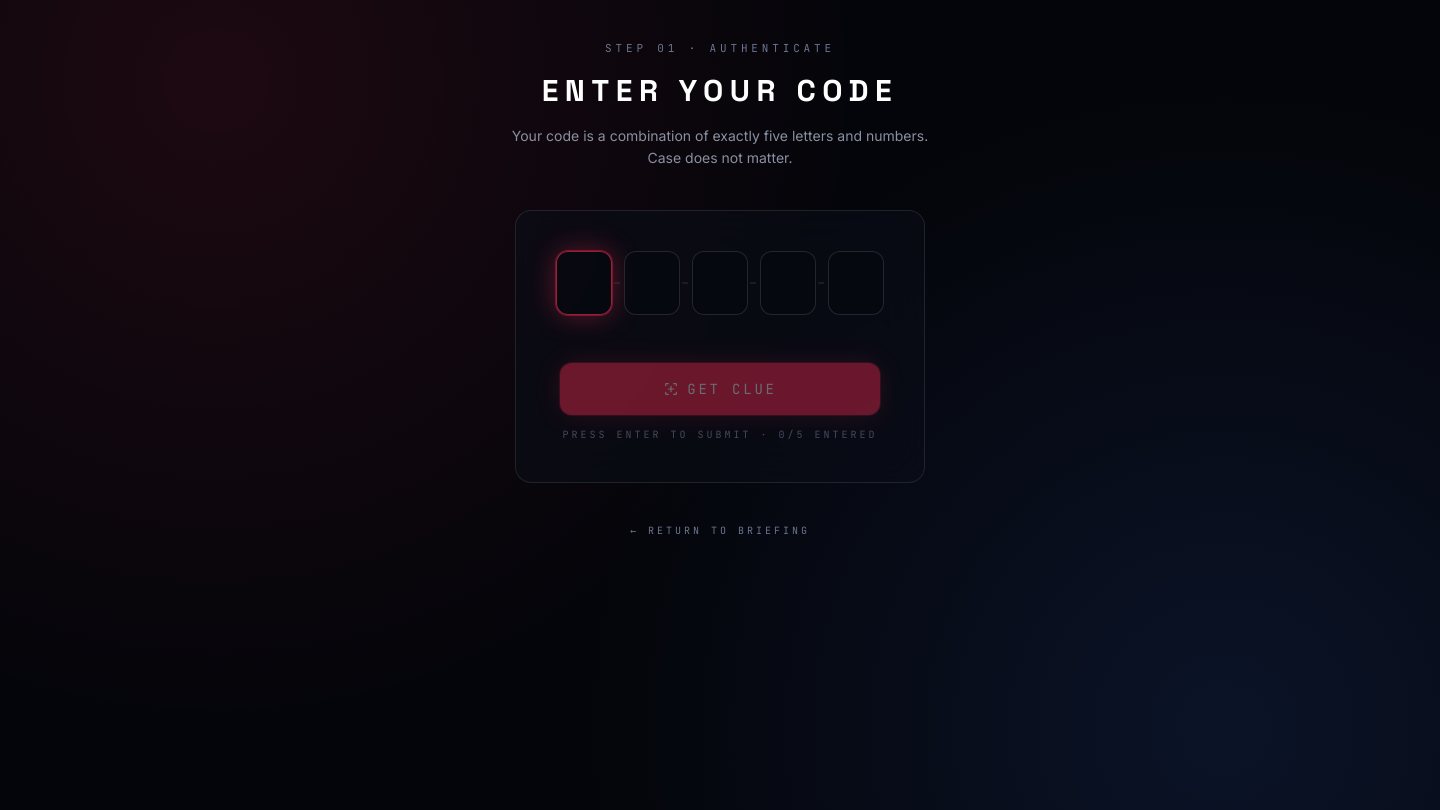
Test case: Enter code page › shows the API error for an invalid code and clears the slots
Type "z" into the field named "Code character 1" at (584, 283), box [556,251,612,315]
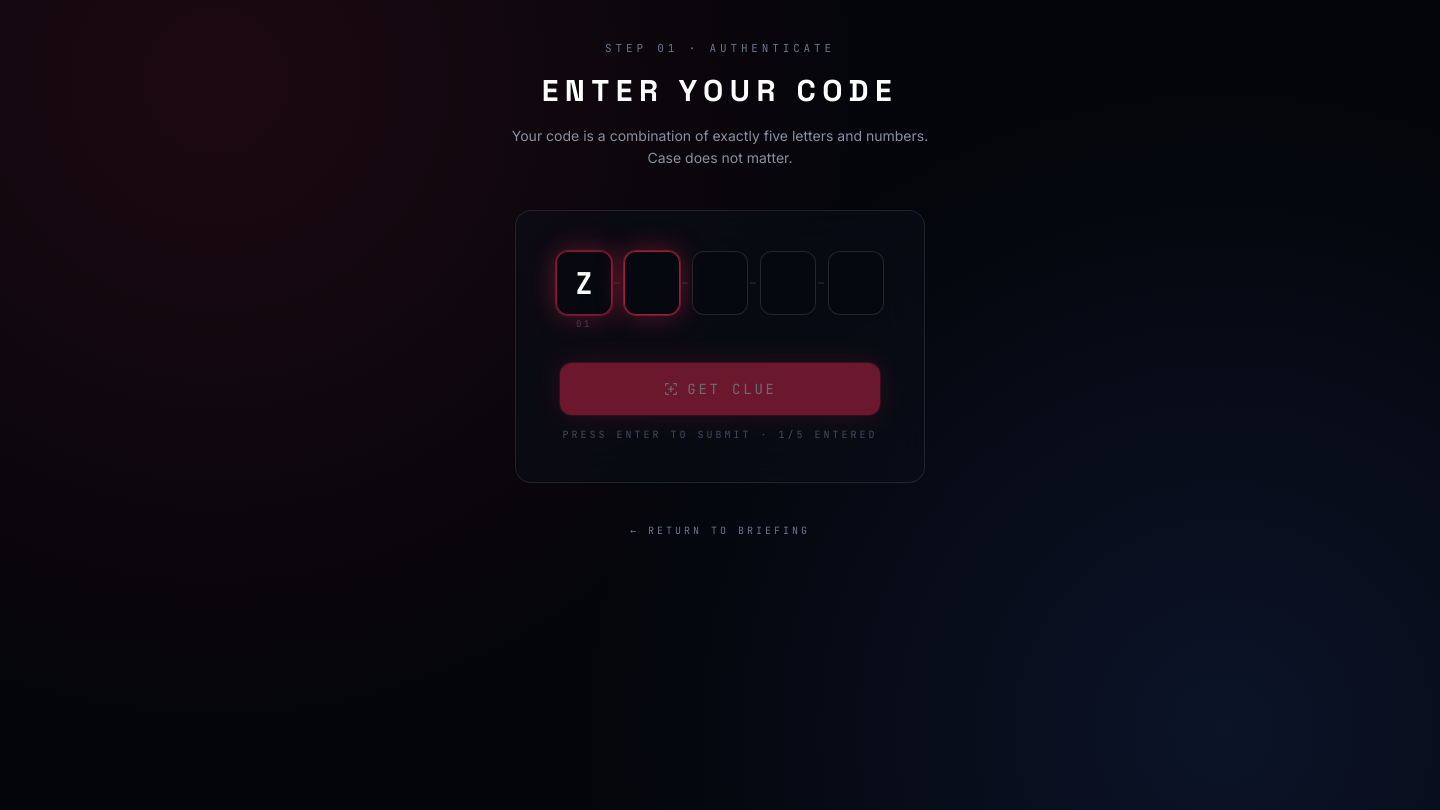
Type "z" into the field named "Code character 2" at (652, 283), box [624,251,680,315]
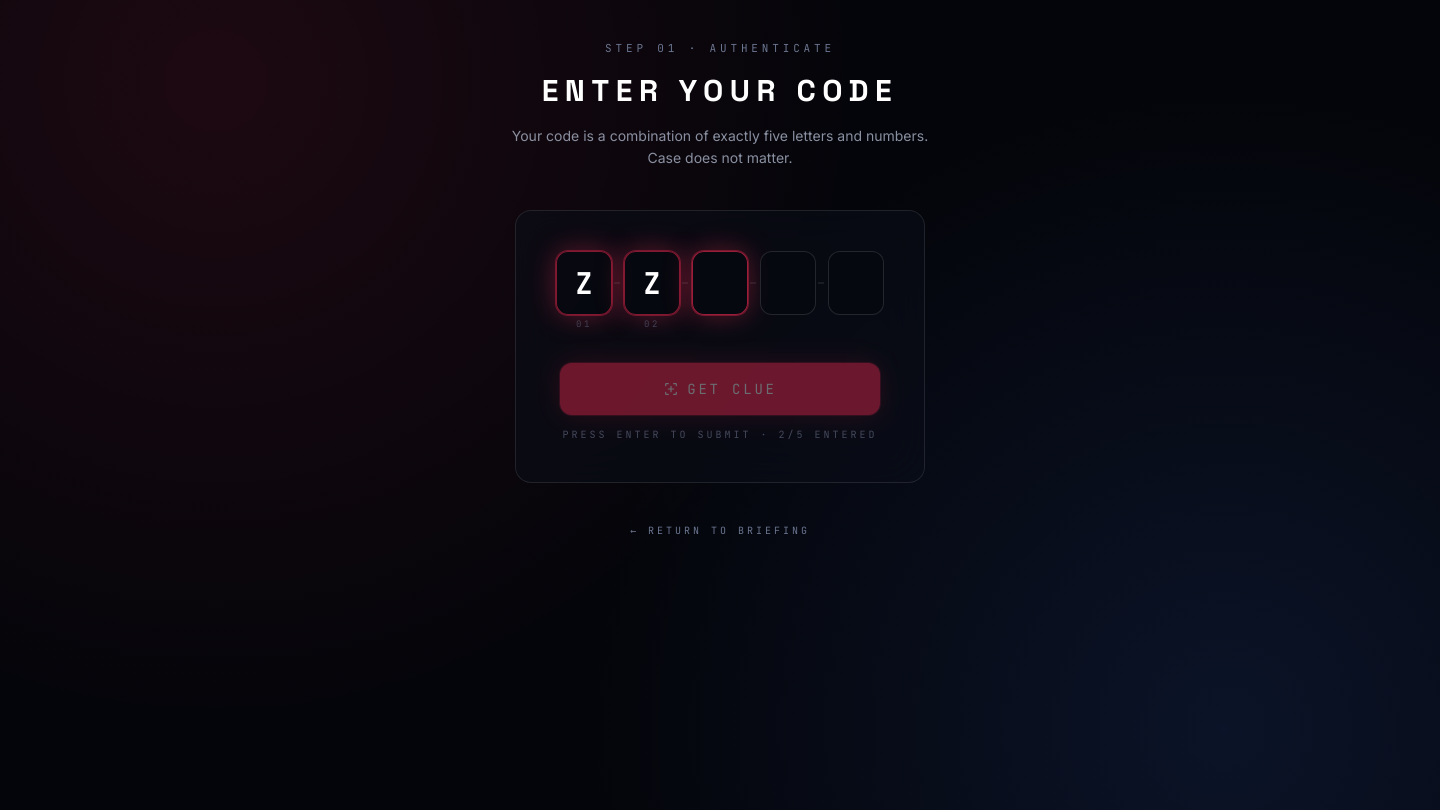
Type "z" into the field named "Code character 3" at (720, 283), box [692,251,748,315]
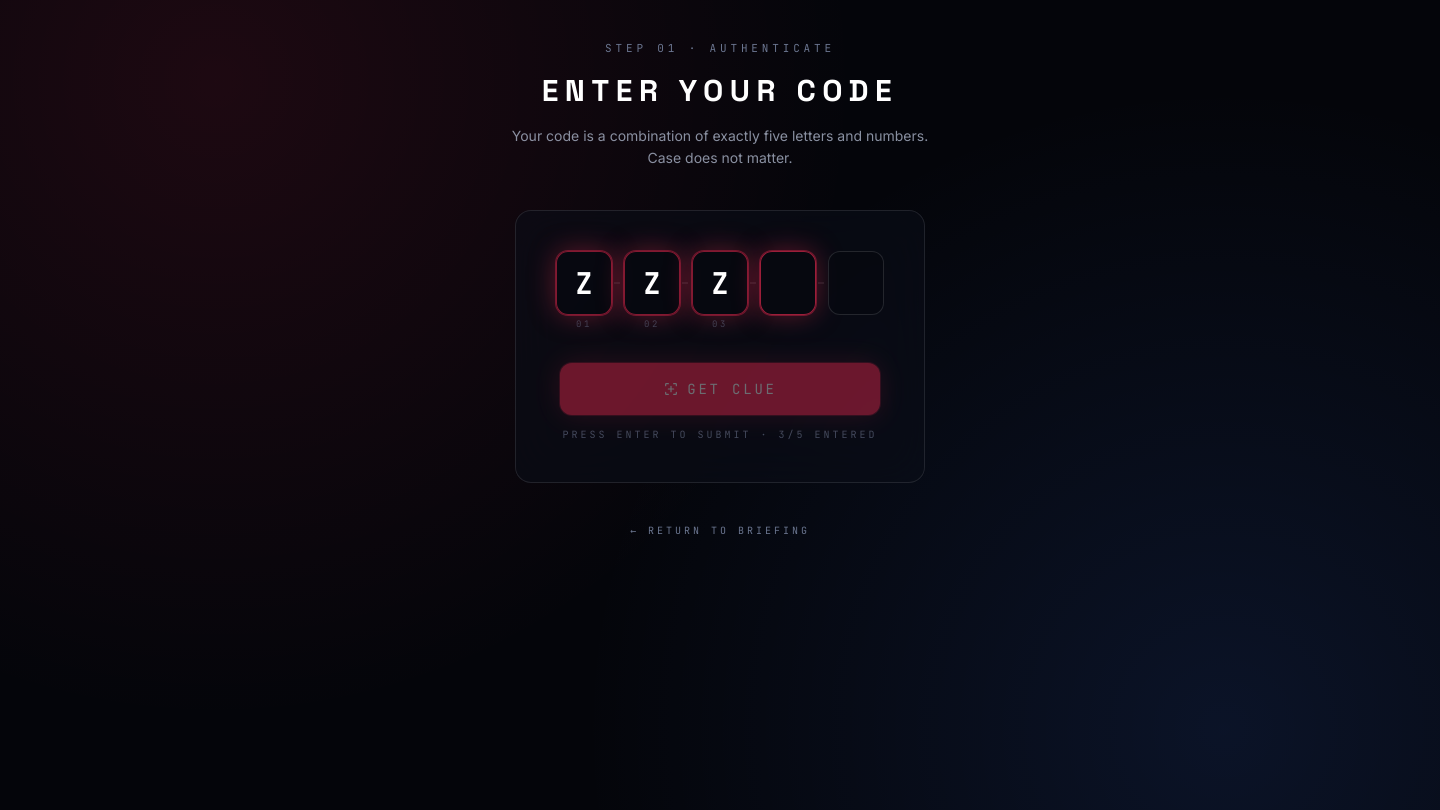
Type "z" into the field named "Code character 4" at (788, 283), box [760,251,816,315]
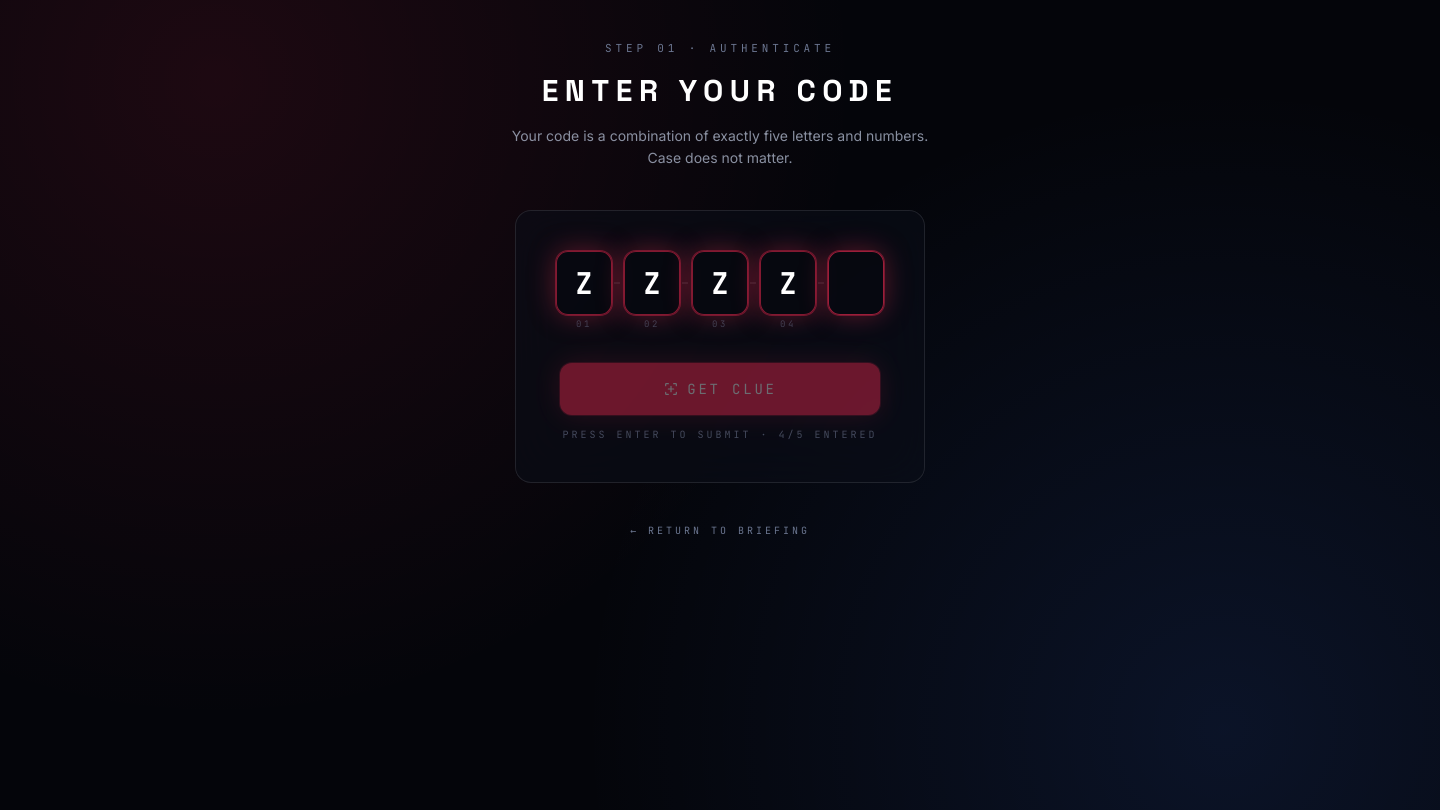
Type "z" into the field named "Code character 5" at (856, 283), box [828,251,884,315]
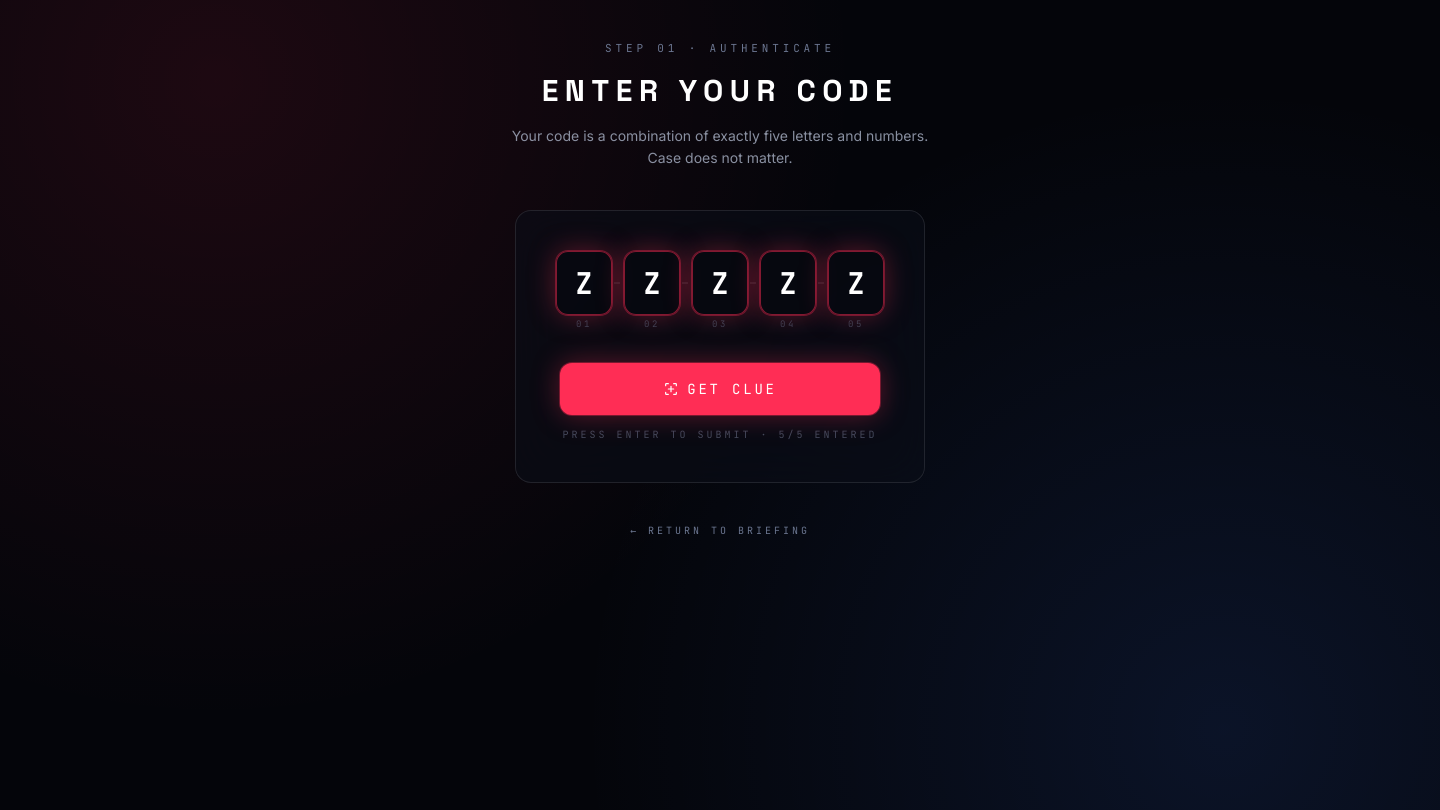
Click the button "Get Clue" at (720, 389), box [560,363,880,415]
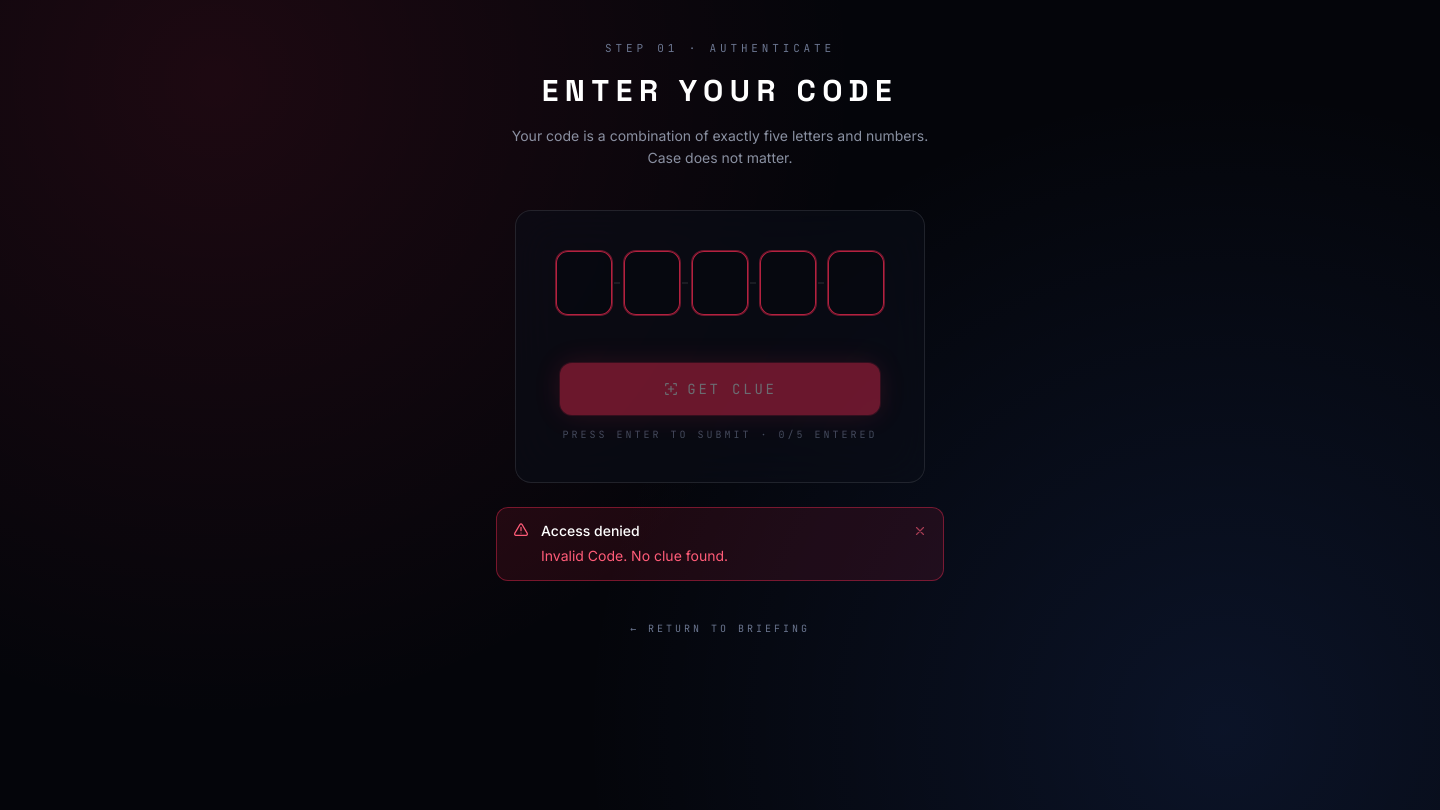
Result: the text "Invalid Code. No clue found." is shown at [541,547,728,564]
Result: the field named "Code character 1" is empty at [556,251,612,315]
